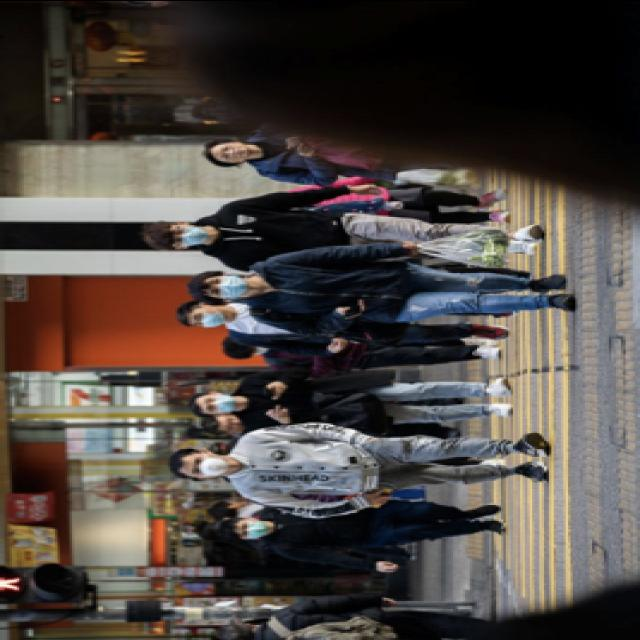mask: (204, 277, 244, 301), (187, 454, 225, 478), (168, 226, 204, 250), (187, 308, 225, 330), (199, 394, 235, 414), (234, 522, 268, 540)
no_mask: (216, 142, 247, 164), (218, 414, 242, 436)
